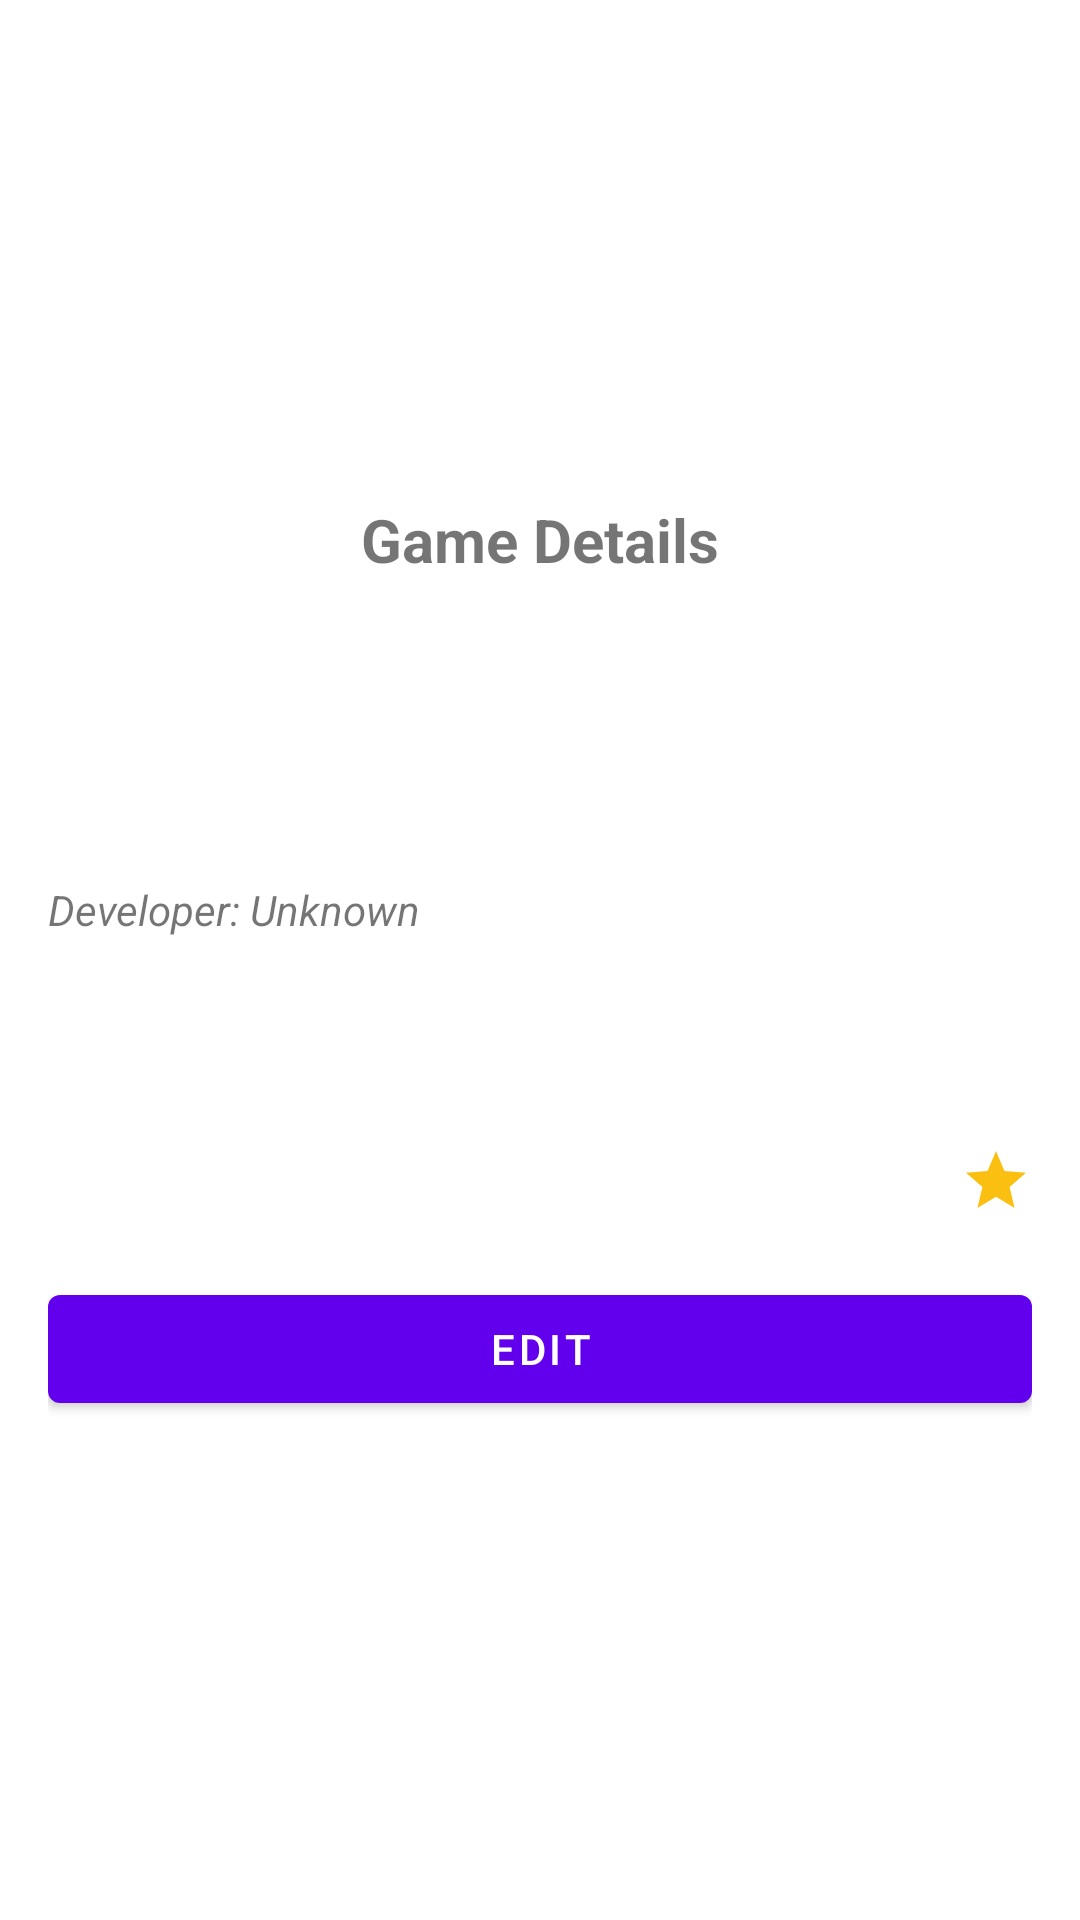

Named icons in this screenshot (1080x1920) and their centers, [x,y]:
star: [996,1179]
